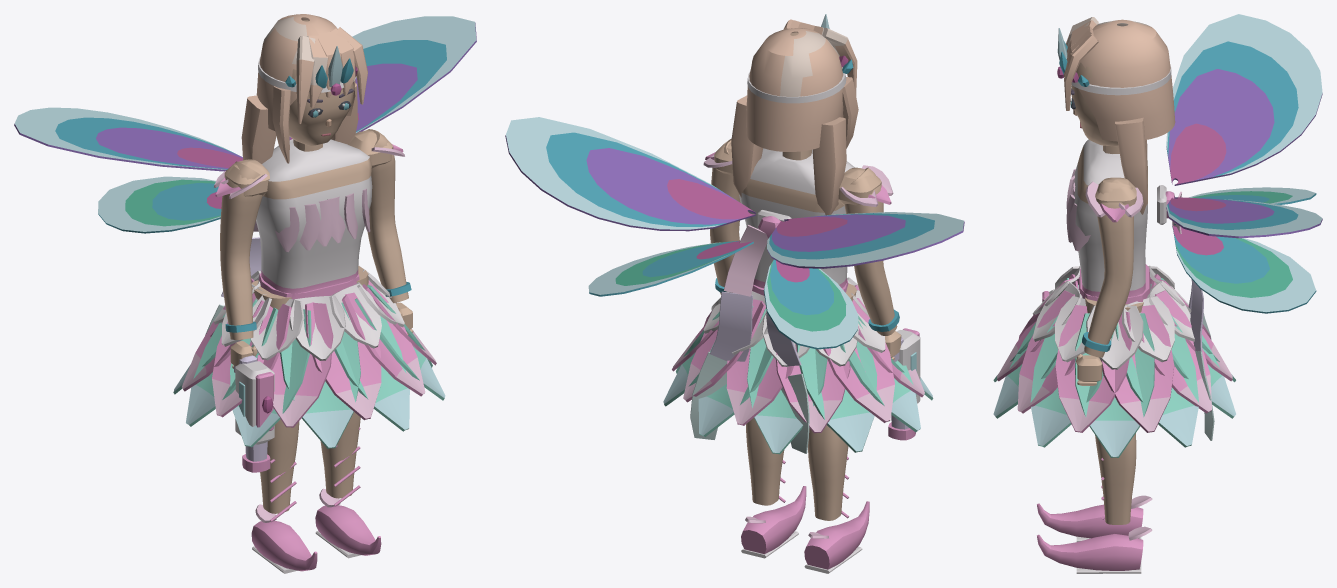
The model's file is jo_fee.glb.
3 renders of one model, left to right at view 1: azimuth 30°, elevation 25°; view 2: azimuth 150°, elevation 25°; view 3: azimuth 270°, elevation 25°, orthographic.
Visible parts, largest first — view 1: torso, dos_glow, hair, arm_r, arm_l, gun, head, jambe_r, shin_r, jambe_l, shin_l, coiffe_glow; view 2: dos_glow, torso, hair, arm_r, shin_r, dos_f2, jambe_l, jambe_r, dos_f3, shin_l, arm_l, dos_f1 (+3 smaller); view 3: dos_glow, torso, hair, arm_l, jambe_l, shin_l, jambe_r, head, epaule_l, dos_f2, coiffe, dos_f3 (+2 smaller).
Part boxes in pixels (bbox=[...]): torso: bbox=[173, 139, 445, 448]; dos_glow: bbox=[14, 16, 476, 233]; hair: bbox=[241, 14, 367, 163]; arm_r: bbox=[220, 159, 269, 368]; arm_l: bbox=[347, 129, 413, 334]; gun: bbox=[234, 355, 274, 472]; head: bbox=[289, 20, 354, 151]; jambe_r: bbox=[251, 504, 317, 573]; shin_r: bbox=[260, 419, 299, 521]; jambe_l: bbox=[315, 488, 381, 558]; shin_l: bbox=[320, 412, 360, 506]; coiffe_glow: bbox=[285, 46, 357, 95]; dos_glow: bbox=[505, 117, 964, 349]; torso: bbox=[663, 148, 933, 454]; hair: bbox=[731, 19, 858, 215]; arm_r: bbox=[838, 167, 901, 360]; shin_r: bbox=[808, 425, 848, 520]; dos_f2: bbox=[710, 291, 801, 366]; jambe_l: bbox=[741, 486, 806, 558]; jambe_r: bbox=[804, 501, 869, 573]; dos_f3: bbox=[690, 352, 809, 453]; shin_l: bbox=[746, 418, 785, 505]; arm_l: bbox=[710, 138, 740, 294]; dos_f1: bbox=[723, 225, 767, 296]; dos_glow: bbox=[1166, 14, 1322, 313]; torso: bbox=[993, 139, 1235, 457]; hair: bbox=[1064, 17, 1175, 214]; arm_l: bbox=[1076, 177, 1136, 385]; jambe_l: bbox=[1037, 526, 1152, 573]; shin_l: bbox=[1095, 433, 1136, 524]; jambe_r: bbox=[1037, 495, 1152, 541]; head: bbox=[1070, 62, 1119, 153]; epaule_l: bbox=[1085, 181, 1143, 222]; dos_f2: bbox=[1188, 279, 1203, 351]; coiffe: bbox=[1071, 65, 1171, 95]; dos_f3: bbox=[1195, 313, 1214, 440].
Bounding box in the file's own units: 1.1 × 1.22 × 0.6868.
